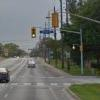Traffic light: (24, 13, 44, 47)
